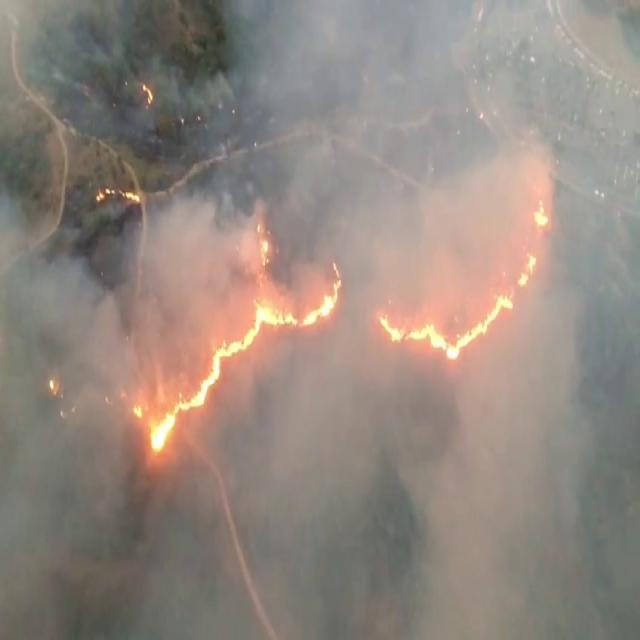Smoke: (298, 404, 587, 626), (252, 18, 482, 200)
